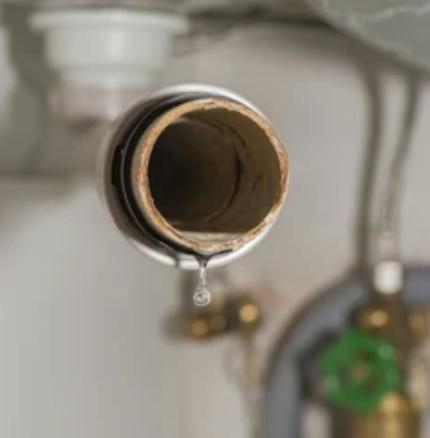water drop: (194, 253, 212, 306)
